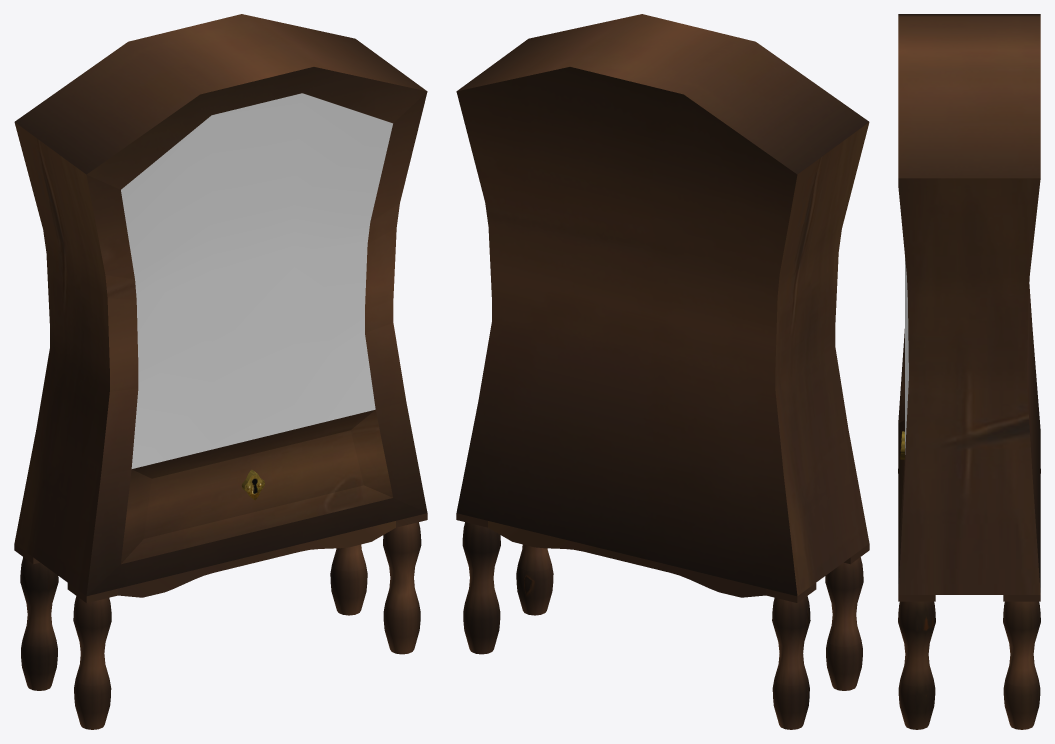
Rendered from ChinaCabinet.fbx.
3 views of the same model, side by side, from view 1: azimuth 30°, elevation 25°; view 2: azimuth 150°, elevation 25°; view 3: azimuth 270°, elevation 25° (orthographic).
Parts seen in each view (by area): view 1: Box006, Box007; view 2: Box006; view 3: Box006, Box007.
Part boxes in pixels (x1,y1,x2,y2): Box006: (14, 14, 427, 729); Box007: (121, 93, 392, 468); Box006: (456, 14, 869, 729); Box006: (898, 14, 1040, 729); Box007: (905, 258, 908, 454).
Bounding box in the file's own units: 5.49 × 9.39 × 2.01.
